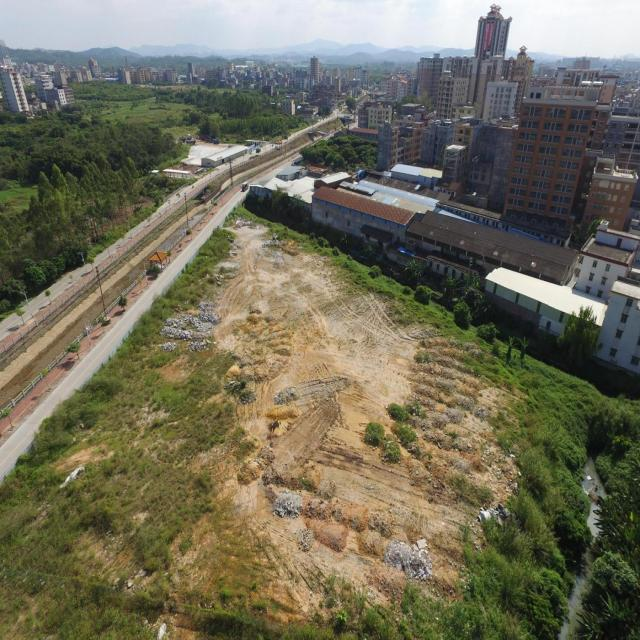tree: (556, 304, 601, 369)
